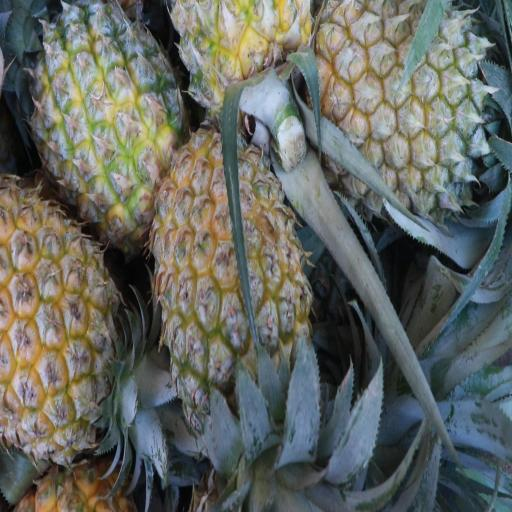------------------------------: (156, 128, 305, 426)
Pineapple - v8 v1: (0, 186, 127, 453), (30, 10, 175, 230)
